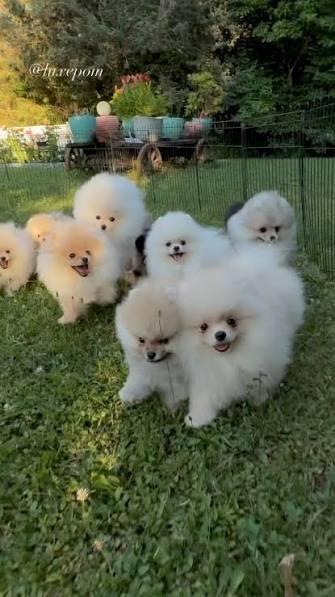adult_dog: (174, 259, 307, 430), (25, 212, 122, 326), (115, 279, 189, 415), (72, 172, 149, 285), (142, 211, 230, 304), (223, 190, 300, 274), (0, 220, 39, 290)
